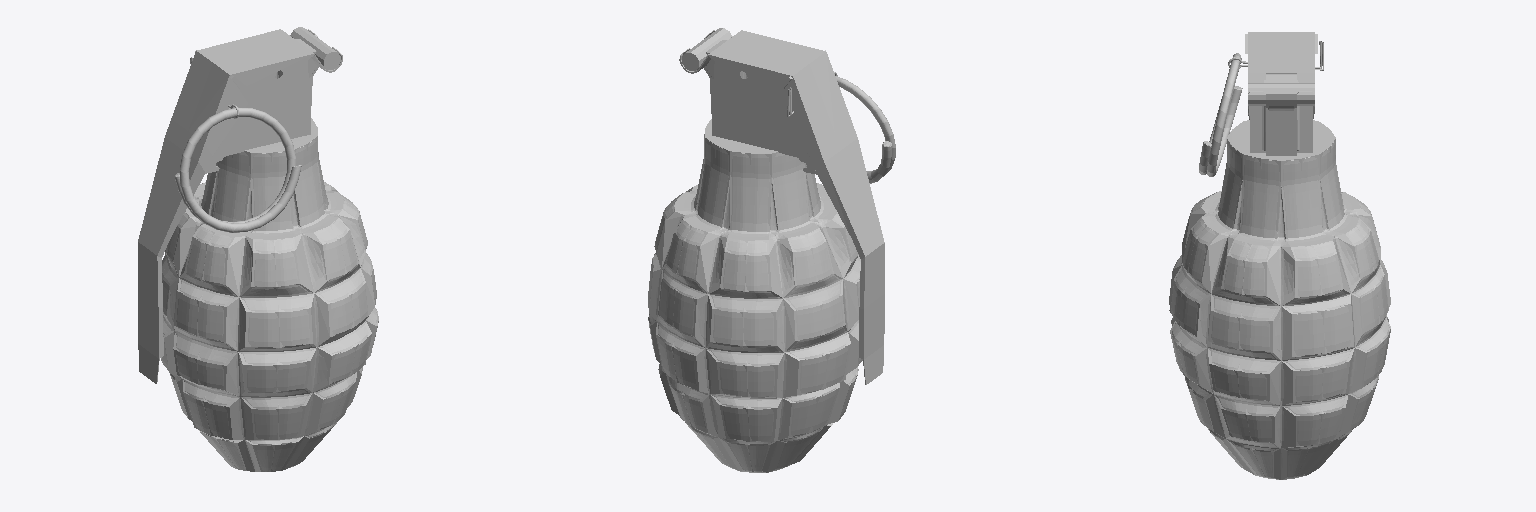
File: grenade.obj
3 renders of one model, left to right at view 1: azimuth 30°, elevation 25°; view 2: azimuth 150°, elevation 25°; view 3: azimuth 270°, elevation 25°, orthographic.
Parts seen in each view (by area): view 1: Mesh_0; view 2: Mesh_0; view 3: Mesh_0.
Part boxes in pixels (x1,y1,x2,y2): Mesh_0: (138,27,378,471); Mesh_0: (648,28,895,472); Mesh_0: (1169,32,1390,479).
Bounding box in the file's own units: 1.45 × 2.62 × 1.3.